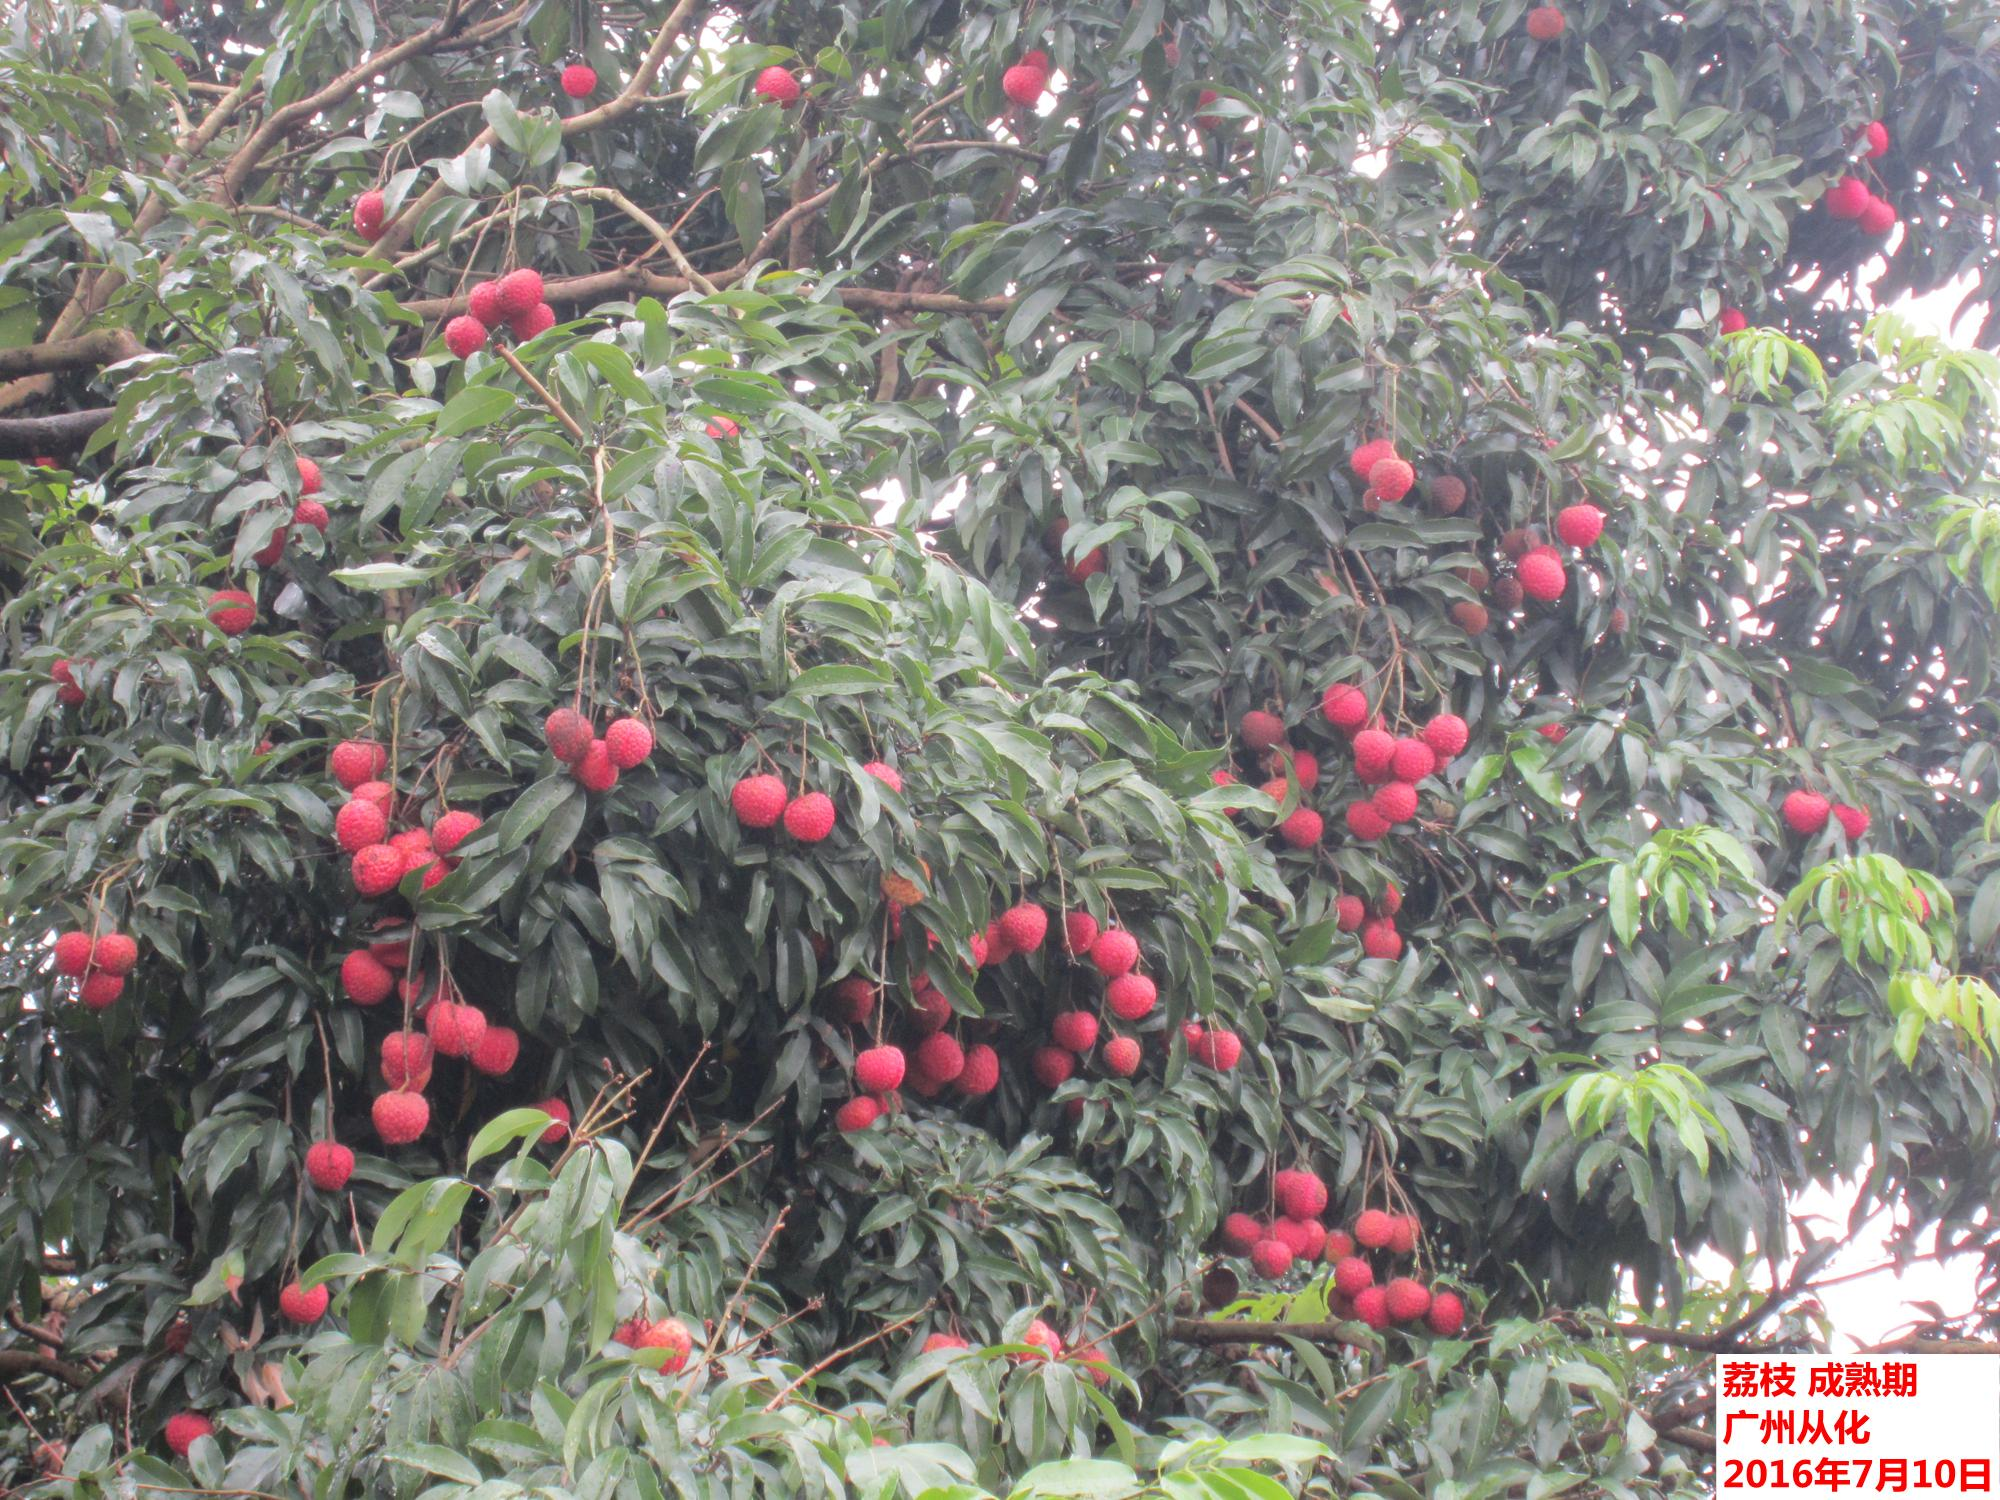果实成熟期: (331, 778, 403, 854), (422, 994, 490, 1067), (1164, 1016, 1246, 1075), (367, 1086, 433, 1149), (328, 730, 394, 793), (288, 447, 334, 537), (339, 942, 398, 1010), (376, 1029, 438, 1093), (910, 1026, 972, 1089), (1099, 966, 1162, 1026), (628, 1317, 694, 1372), (346, 838, 408, 897), (542, 703, 598, 766), (1000, 43, 1054, 109), (602, 711, 657, 774), (202, 585, 263, 640), (276, 1272, 332, 1330), (732, 770, 789, 827), (304, 1136, 359, 1191), (520, 1090, 575, 1145), (854, 1038, 909, 1093), (46, 652, 101, 707), (490, 263, 546, 315), (1317, 682, 1375, 733), (901, 972, 951, 1030), (1422, 709, 1476, 763), (1381, 1272, 1435, 1325), (1364, 454, 1419, 506), (1049, 1004, 1102, 1056), (1028, 1040, 1080, 1093), (572, 739, 622, 794), (350, 183, 392, 247), (164, 1409, 216, 1461), (469, 1023, 521, 1075), (1551, 501, 1605, 551), (784, 791, 836, 841), (1343, 794, 1395, 845), (1387, 734, 1438, 786), (1515, 551, 1569, 600), (746, 65, 802, 112), (1055, 904, 1102, 960), (1822, 175, 1872, 225), (1350, 723, 1400, 774), (1057, 540, 1110, 588), (858, 756, 904, 811), (50, 926, 98, 978), (1098, 1030, 1145, 1082), (1269, 747, 1323, 793), (1372, 777, 1420, 826), (91, 930, 142, 977), (1781, 788, 1833, 834), (1850, 109, 1894, 162), (72, 969, 128, 1012), (441, 314, 490, 361), (1520, 2, 1569, 49), (1013, 1317, 1061, 1364), (1247, 1235, 1296, 1283), (1233, 706, 1283, 752), (1091, 930, 1142, 975), (1422, 1287, 1466, 1339), (1331, 882, 1372, 937), (1002, 901, 1046, 952), (1332, 1251, 1378, 1298), (1353, 1205, 1398, 1253), (1280, 1171, 1328, 1216), (831, 1093, 883, 1134), (1069, 1346, 1115, 1390), (1217, 1213, 1263, 1257), (556, 61, 603, 101), (1828, 796, 1869, 840), (1283, 807, 1324, 851), (1857, 199, 1899, 236), (1713, 303, 1750, 337), (702, 413, 742, 443)
